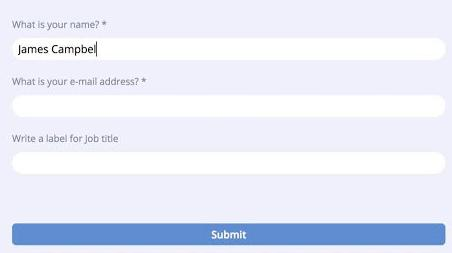button: (10, 222, 447, 247)
field: (10, 36, 447, 64), (10, 150, 448, 177), (8, 93, 449, 119)
field_with_label: (5, 74, 450, 121), (8, 133, 449, 179), (7, 20, 449, 65)
